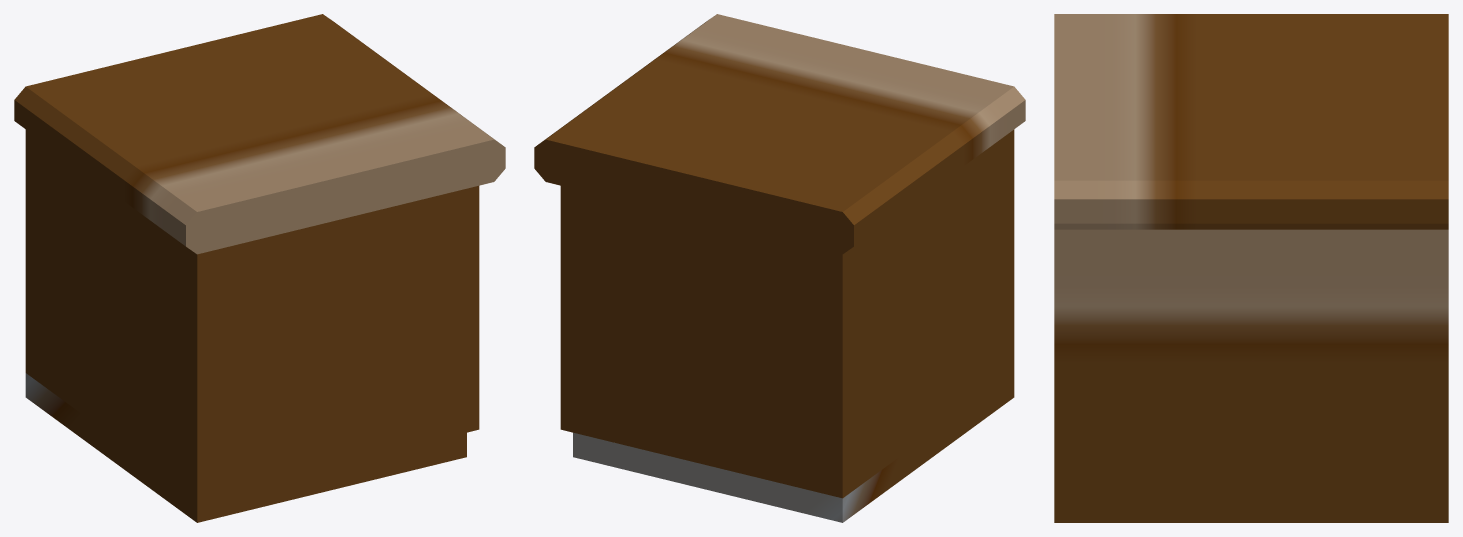
Rendered from SM_Bench.fbx.
The picture shows the model from 3 angles, left to right: view 1: azimuth 30°, elevation 25°; view 2: azimuth 150°, elevation 25°; view 3: azimuth 270°, elevation 25°; orthographic projection. The views are drawn at different scales.
Parts seen in each view (by area): view 1: SM_Bench_BackBevel; view 2: SM_Bench_BackBevel; view 3: SM_Bench_BackBevel.
Part boxes in pixels (box(x1,y1,x2,y2)): SM_Bench_BackBevel: box(14, 14, 505, 522); SM_Bench_BackBevel: box(534, 14, 1025, 522); SM_Bench_BackBevel: box(1054, 14, 1448, 522).
Size of the model in its own units: 1.08 by 1 by 1.
